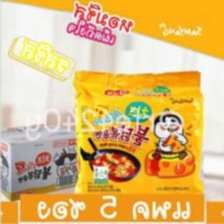snack: (69, 62, 208, 194)
